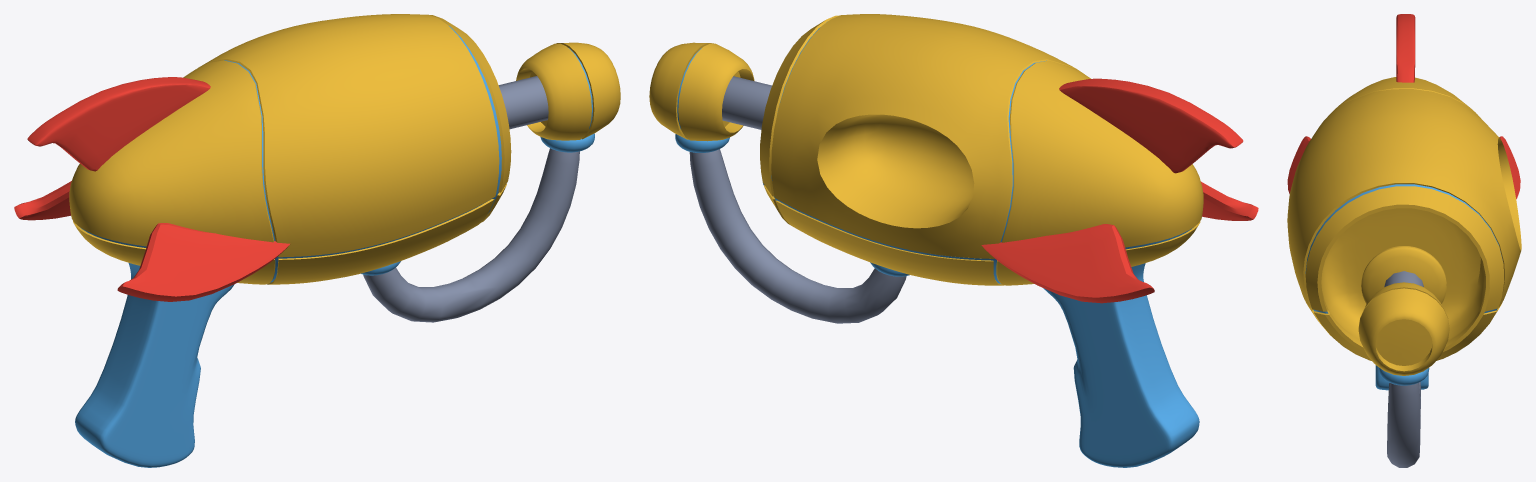
File: LaserPistol.fbx
3 renders of one model, left to right at view 1: azimuth 30°, elevation 25°; view 2: azimuth 150°, elevation 25°; view 3: azimuth 270°, elevation 25°, orthographic. The views are drawn at different scales.
Parts seen in each view (by area): view 1: RetroGun_01; view 2: RetroGun_01; view 3: RetroGun_01.
Part boxes in pixels (<box>): RetroGun_01: <box>14,14,620,467</box>; RetroGun_01: <box>649,14,1258,467</box>; RetroGun_01: <box>1287,14,1521,467</box>.
Size of the model in its own units: 81.19 by 51.55 by 31.51.
